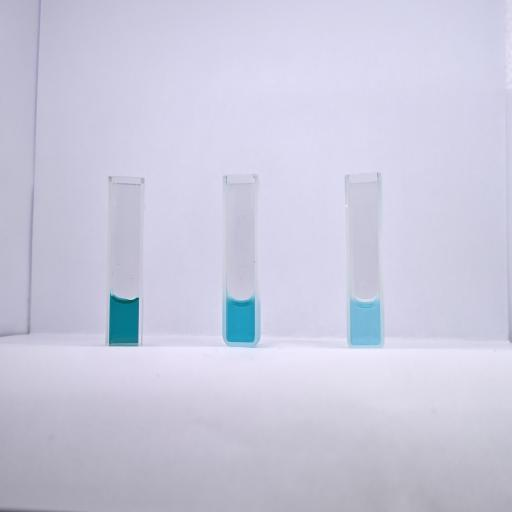cuvette: (342, 170, 386, 350), (221, 171, 262, 348), (106, 171, 146, 347)
liquid: (110, 296, 139, 343), (351, 300, 380, 346), (226, 297, 255, 342)
